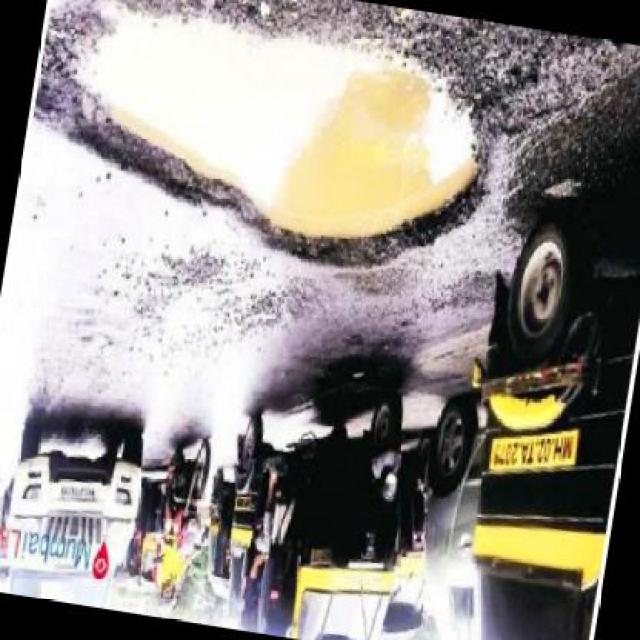pothole: (14, 1, 515, 297)
